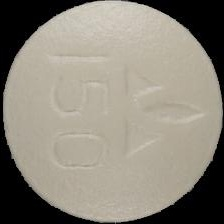51248-150: (0, 0, 224, 224)
